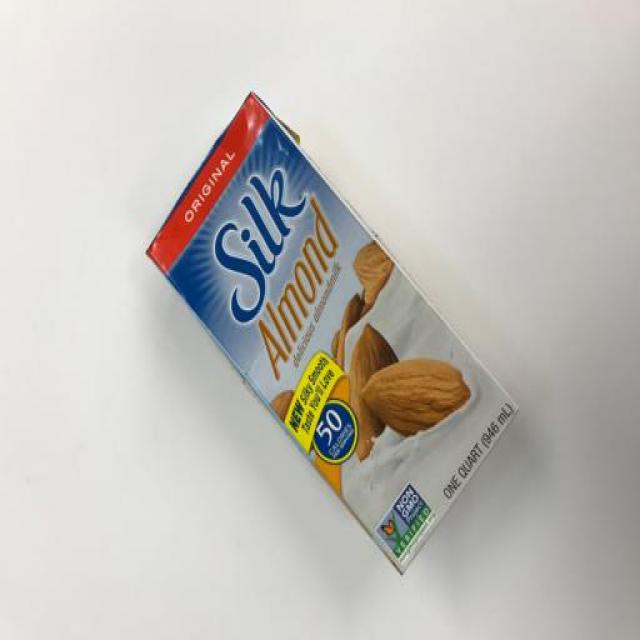paper: (129, 65, 533, 589)
